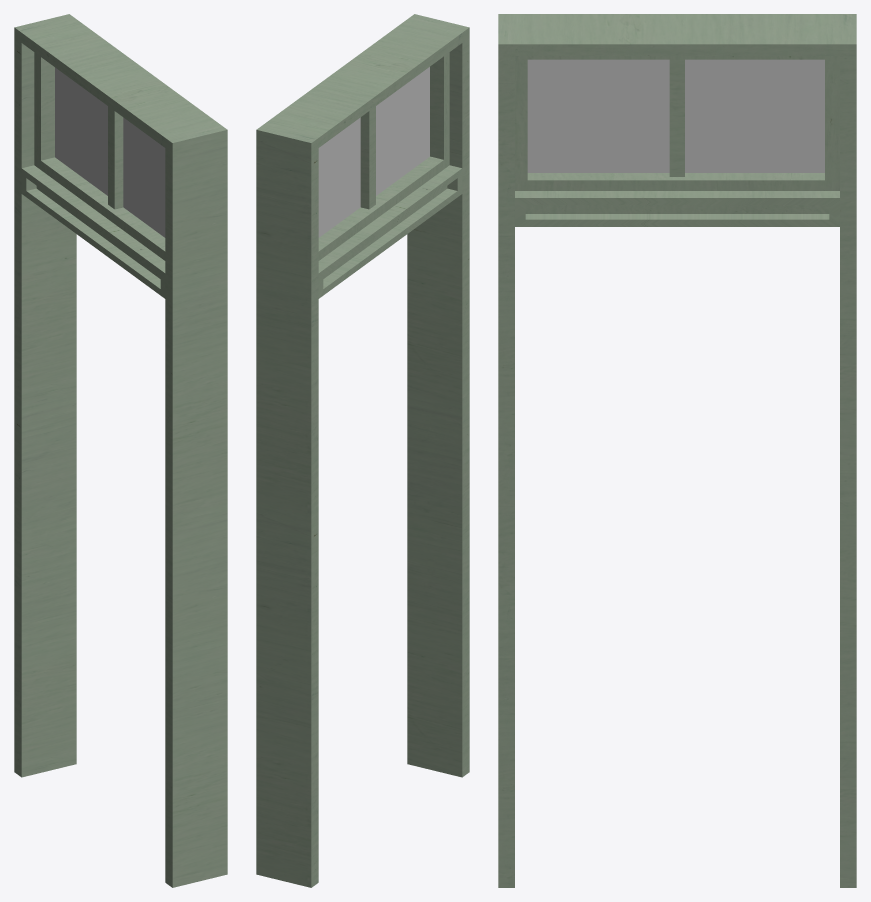
File: SM_WD11_FRAME.fbx
3 views of the same model, side by side, from view 1: azimuth 30°, elevation 25°; view 2: azimuth 150°, elevation 25°; view 3: azimuth 270°, elevation 25° (orthographic). The views are drawn at different scales.
Visible parts, largest first — view 1: SM_WD11_FRAME; view 2: SM_WD11_FRAME; view 3: SM_WD11_FRAME.
Boxes of the visible parts, <box> form: SM_WD11_FRAME: <box>14,14,227,887</box>; SM_WD11_FRAME: <box>256,14,469,887</box>; SM_WD11_FRAME: <box>498,14,856,887</box>.
Bounding box in the file's own units: 24.89 × 124 × 322.
2 materials, 1 textured.
